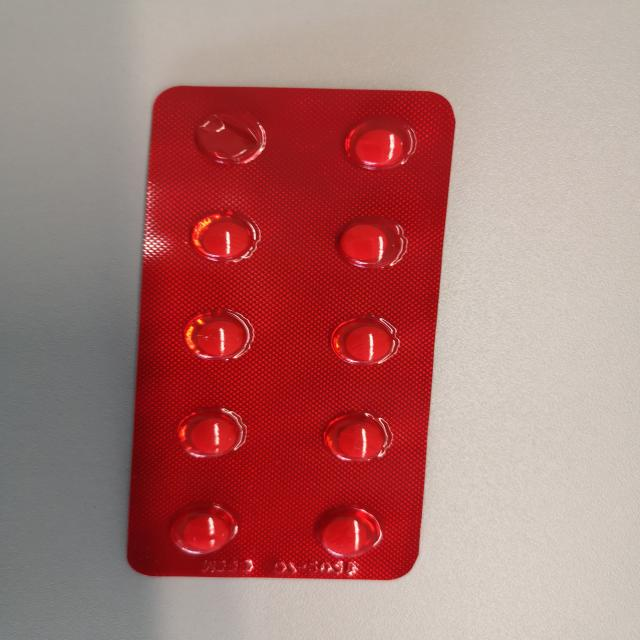Empty: (187, 105, 282, 174)
Pill: (321, 213, 424, 276), (320, 311, 420, 373), (308, 407, 402, 472), (176, 203, 264, 270), (165, 402, 254, 466), (176, 305, 262, 371), (307, 500, 393, 565), (157, 497, 241, 563), (333, 114, 415, 176)
